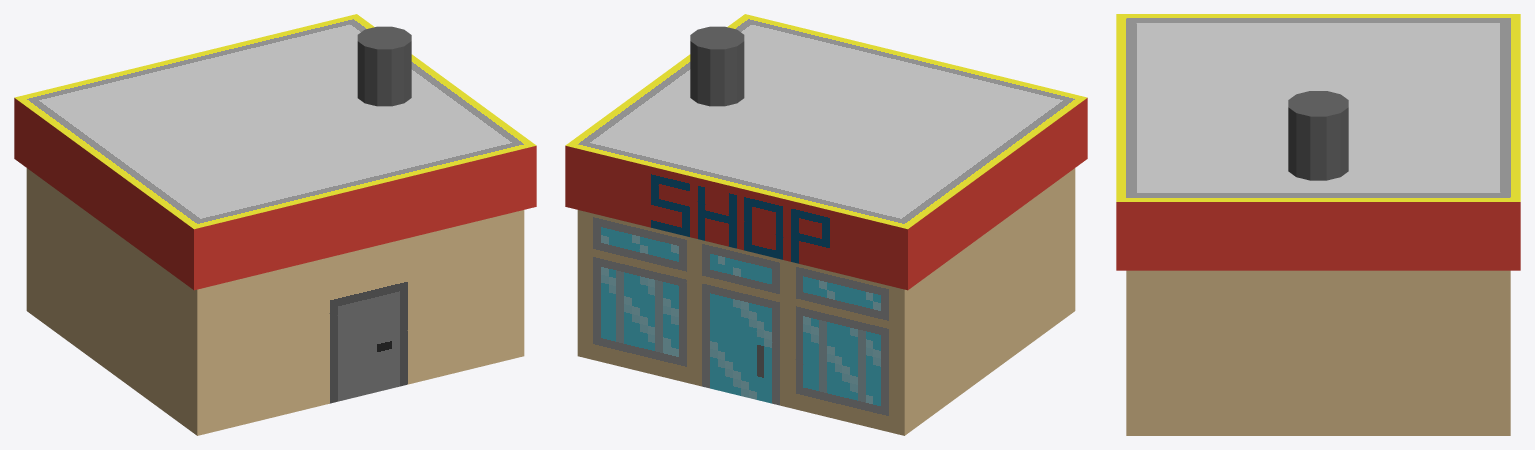
The model's file is storefront.gltf.
3 renders of one model, left to right at view 1: azimuth 30°, elevation 25°; view 2: azimuth 150°, elevation 25°; view 3: azimuth 270°, elevation 25°, orthographic. The views are drawn at different scales.
Parts seen in each view (by area): view 1: cuboid, cylinder; view 2: cuboid, cylinder; view 3: cuboid, cylinder.
Part boxes in pixels (x1,y1,x2,y2): cuboid: [14, 14, 536, 435]; cylinder: [357, 26, 411, 106]; cuboid: [565, 14, 1087, 435]; cylinder: [690, 26, 744, 106]; cuboid: [1116, 14, 1520, 435]; cylinder: [1288, 91, 1348, 180].
Bounding box in the file's own units: 2.75 × 2.06 × 2.5.
Materials: 2 (2 with a texture image).
